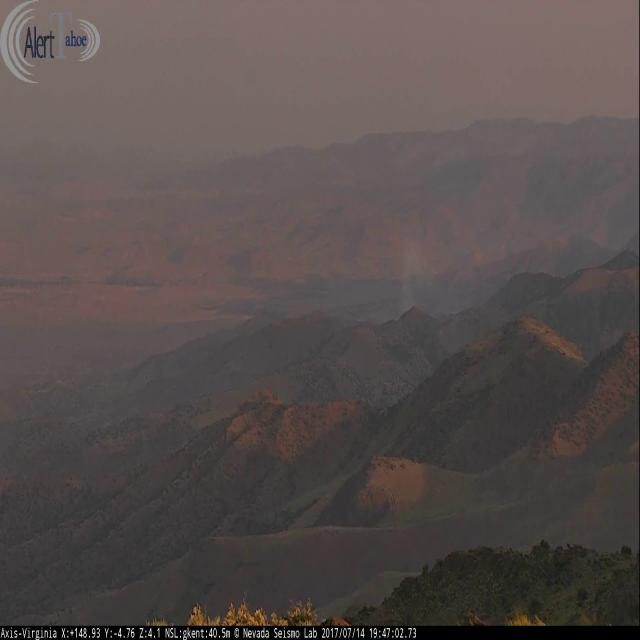smoke: (398, 240, 435, 313)
